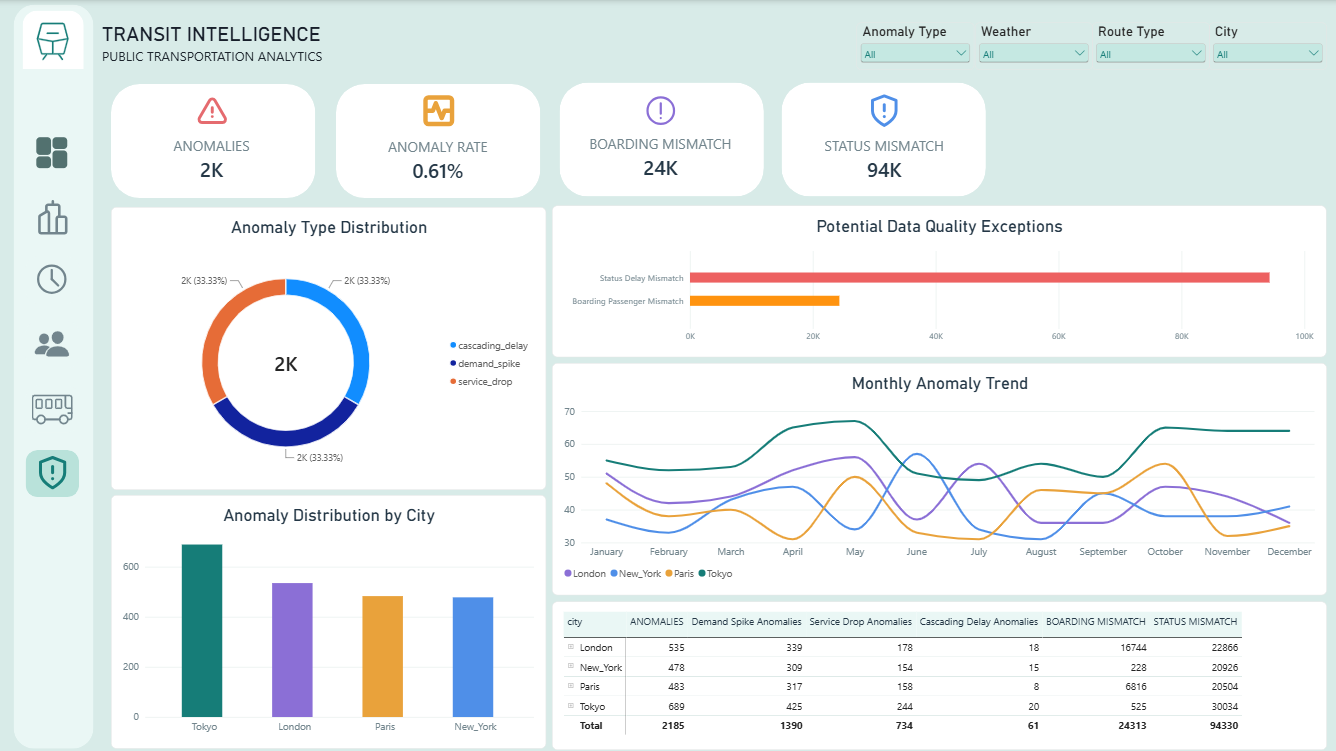

What the dashboard file says about the page in this screenshot:
{"tool":"powerbi","page":{"name":"Anomaly Detection","canvas":[1920,1080],"ordinal":5},"visuals":[{"type":"shape","box":[19.5,7.3,114.7,1066.2],"z":0},{"type":"textbox","title":"TRANSIT INTELLIGENCE","box":[146.4,31.7,366,61],"z":1000},{"type":"shape","box":[31.4,15.9,87.7,84.1],"z":2000},{"type":"image","box":[35.5,26.4,78.2,63.6],"z":3000},{"type":"shape","box":[37.3,277.3,77.3,67.3],"z":4000},{"type":"shape","box":[37.3,367.3,77.3,67.3],"z":5000},{"type":"shape","box":[37.3,459.1,76.9,67.5],"z":6000},{"type":"shape","box":[37.3,551.8,76.9,67.5],"z":7000},{"type":"shape","box":[37.3,644.5,76.9,67.5],"z":8000},{"type":"image","box":[39.1,281.8,74,59],"z":9000},{"type":"image","box":[41.8,374.5,66.4,51.8],"z":10000},{"type":"image","box":[39.1,466.4,71.8,52.7],"z":11000},{"type":"image","box":[39.1,556.4,71.8,59.1],"z":12000},{"type":"image","box":[38.2,651.8,73.6,51.8],"z":13000},{"type":"actionButton","box":[46.3,286.3,58.4,49.5],"z":14000},{"type":"actionButton","box":[46.3,375.8,58.4,49.5],"z":15000},{"type":"actionButton","box":[45.8,467.9,58.4,49.5],"z":16000},{"type":"actionButton","box":[46,561,59,50],"z":17000},{"type":"actionButton","box":[46.2,652.5,58.4,49.5],"z":18000},{"type":"shape","box":[37.5,186.2,76.9,67.5],"z":19000},{"type":"image","box":[41,194,66.7,50.8],"z":20000},{"type":"actionButton","box":[46,195,58.4,49.5],"z":21000},{"type":"shape","box":[158.6,119.6,292.8,163.5],"z":22000},{"type":"shape","box":[481.1,120,292.8,163.5],"z":23000},{"type":"shape","box":[801.1,118.9,292.8,163.5],"z":24000},{"type":"shape","box":[1120,118.9,292.8,163.5],"z":25000},{"type":"cardVisual","fields":{"Data":["_Measures.Total Anomalies"]},"box":[215.6,177.8,176.7,100],"z":26000},{"type":"cardVisual","fields":{"Data":["_Measures.Anomaly Rate %"]},"box":[509.9,180.9,236.1,100.5],"z":27000},{"type":"cardVisual","fields":{"Data":["_Measures.Boarding Passenger Mismatch"]},"box":[822.2,175.7,246.4,100],"z":28000},{"type":"cardVisual","fields":{"Data":["_Measures.Status Delay Mismatch"]},"box":[1149.2,178.1,234.2,100],"z":29000},{"type":"image","box":[271.2,135,66.7,50.8],"z":30000},{"type":"image","box":[595,133.8,66.7,50.8],"z":31000},{"type":"image","box":[913.8,133.8,66.7,50.8],"z":32000},{"type":"image","box":[1232.5,133.8,66.7,50.8],"z":33000},{"type":"donutChart","title":"Anomaly Type Distribution","fields":{"Category":["public_transportation_cleaned.anomaly_type"],"Y":["_Measures.Total Anomalies"]},"box":[158.9,296.7,623.3,405.6],"z":34000},{"type":"clusteredColumnChart","title":"Anomaly Distribution by City","fields":{"Category":["public_transportation_cleaned.city"],"Y":["_Measures.Total Anomalies"]},"box":[158.9,710,623.3,363.3],"z":35000},{"type":"lineChart","title":"Monthly Anomaly Trend","fields":{"Category":["public_transportation_cleaned.timestamp.Variation.Date Hierarchy.Month"],"Series":["public_transportation_cleaned.city"],"Y":["_Measures.Total Anomalies"]},"box":[790,520,1110,303.3],"z":36000},{"type":"clusteredBarChart","title":"Potential Data Quality Exceptions","fields":{"Category":["Quality Issues.Issue"],"Y":["_Measures.Quality Issue Count"]},"box":[790.5,295.2,1109.1,217.2],"z":37000},{"type":"pivotTable","fields":{"Rows":["public_transportation_cleaned.city","public_transportation_cleaned.anomaly_type"],"Values":["_Measures.Total Anomalies","_Measures.Demand Spike Anomalies","_Measures.Service Drop Anomalies","_Measures.Cascading Delay Anomalies","_Measures.Boarding Passenger Mismatch","_Measures.Status Delay Mismatch"]},"box":[790.5,832,1110.1,241.5],"z":38000},{"type":"slicer","fields":{"Values":["public_transportation_cleaned.city"]},"box":[1732.3,31.7,168.3,68.3],"z":39000},{"type":"slicer","fields":{"Values":["public_transportation_cleaned.route_type"]},"box":[1563.9,31.7,168.3,68.3],"z":40000},{"type":"slicer","fields":{"Values":["public_transportation_cleaned.weather_condition"]},"box":[1395.7,31.4,168.3,68.3],"z":41000},{"type":"slicer","fields":{"Values":["public_transportation_cleaned.anomaly_type"]},"box":[1227.2,31.7,168.3,68.3],"z":42000},{"type":"actionButton","box":[31.4,25.7,87.1,74.3],"z":43000}]}

Visuals, with their boxes in screenshot pixels (x1, y1, x2, y2), scaled from the page's 1920x1080 canvas onto the 1336x751 screenshot:
shape: BBox(14, 5, 93, 746)
"TRANSIT INTELLIGENCE" textbox: BBox(102, 22, 357, 64)
shape: BBox(22, 11, 83, 70)
image: BBox(25, 18, 79, 63)
shape: BBox(26, 193, 80, 240)
shape: BBox(26, 255, 80, 302)
shape: BBox(26, 319, 79, 366)
shape: BBox(26, 384, 79, 431)
shape: BBox(26, 448, 79, 495)
image: BBox(27, 196, 79, 237)
image: BBox(29, 260, 75, 296)
image: BBox(27, 324, 77, 361)
image: BBox(27, 387, 77, 428)
image: BBox(27, 453, 78, 489)
actionButton: BBox(32, 199, 73, 234)
actionButton: BBox(32, 261, 73, 296)
actionButton: BBox(32, 325, 73, 360)
actionButton: BBox(32, 390, 73, 425)
actionButton: BBox(32, 454, 73, 488)
shape: BBox(26, 129, 80, 176)
image: BBox(29, 135, 75, 170)
actionButton: BBox(32, 136, 73, 170)
shape: BBox(110, 83, 314, 197)
shape: BBox(335, 83, 539, 197)
shape: BBox(557, 83, 761, 196)
shape: BBox(779, 83, 983, 196)
cardVisual - _Measures.Total Anomalies: BBox(150, 124, 273, 193)
cardVisual - _Measures.Anomaly Rate %: BBox(355, 126, 519, 196)
cardVisual - _Measures.Boarding Passenger Mismatch: BBox(572, 122, 744, 192)
cardVisual - _Measures.Status Delay Mismatch: BBox(800, 124, 963, 193)
image: BBox(189, 94, 235, 129)
image: BBox(414, 93, 460, 128)
image: BBox(636, 93, 682, 128)
image: BBox(858, 93, 904, 128)
"Anomaly Type Distribution" donutChart: BBox(111, 206, 544, 488)
"Anomaly Distribution by City" clusteredColumnChart: BBox(111, 494, 544, 746)
"Monthly Anomaly Trend" lineChart: BBox(550, 362, 1322, 572)
"Potential Data Quality Exceptions" clusteredBarChart: BBox(550, 205, 1322, 356)
pivotTable - public_transportation_cleaned.city x public_transportation_cleaned.anomaly_type: BBox(550, 579, 1323, 746)
slicer - public_transportation_cleaned.city: BBox(1205, 22, 1323, 70)
slicer - public_transportation_cleaned.route_type: BBox(1088, 22, 1205, 70)
slicer - public_transportation_cleaned.weather_condition: BBox(971, 22, 1088, 69)
slicer - public_transportation_cleaned.anomaly_type: BBox(854, 22, 971, 70)
actionButton: BBox(22, 18, 82, 70)
